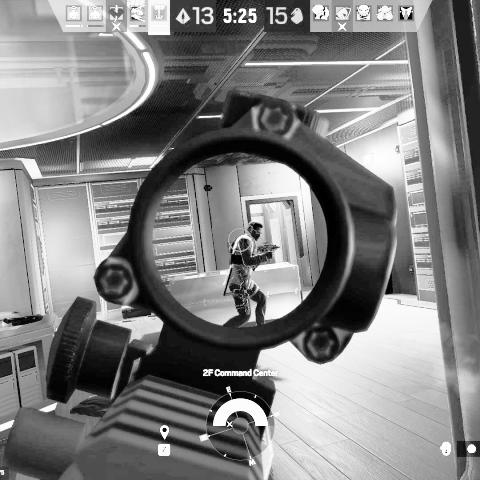Character: (218, 220, 280, 328)
Head: (245, 221, 264, 241)
